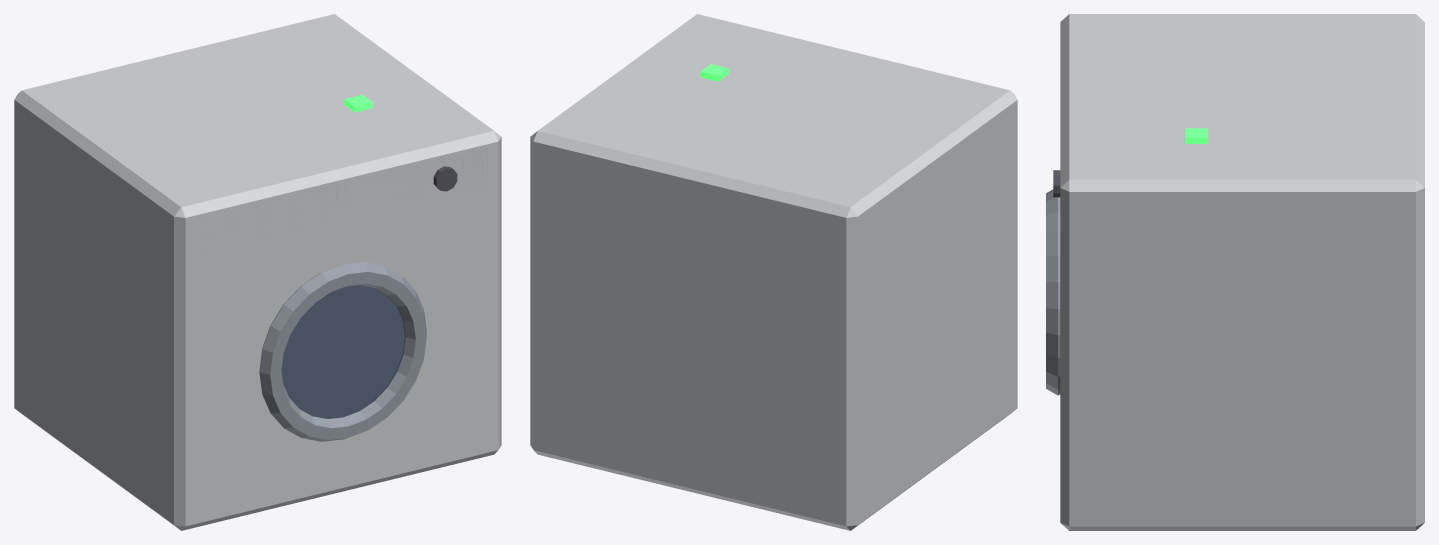
File: washer.glb
3 views of the same model, side by side, from view 1: azimuth 30°, elevation 25°; view 2: azimuth 150°, elevation 25°; view 3: azimuth 270°, elevation 25° (orthographic). The views are drawn at different scales.
Visible parts, largest first — view 1: washer; view 2: washer; view 3: washer.
Boxes of the visible parts, x1,y1,x2,y2 form: washer: (14,14,501,530); washer: (530,14,1017,530); washer: (1046,14,1424,530).
Size of the model in its own units: 0.9 by 0.865 by 0.831.
